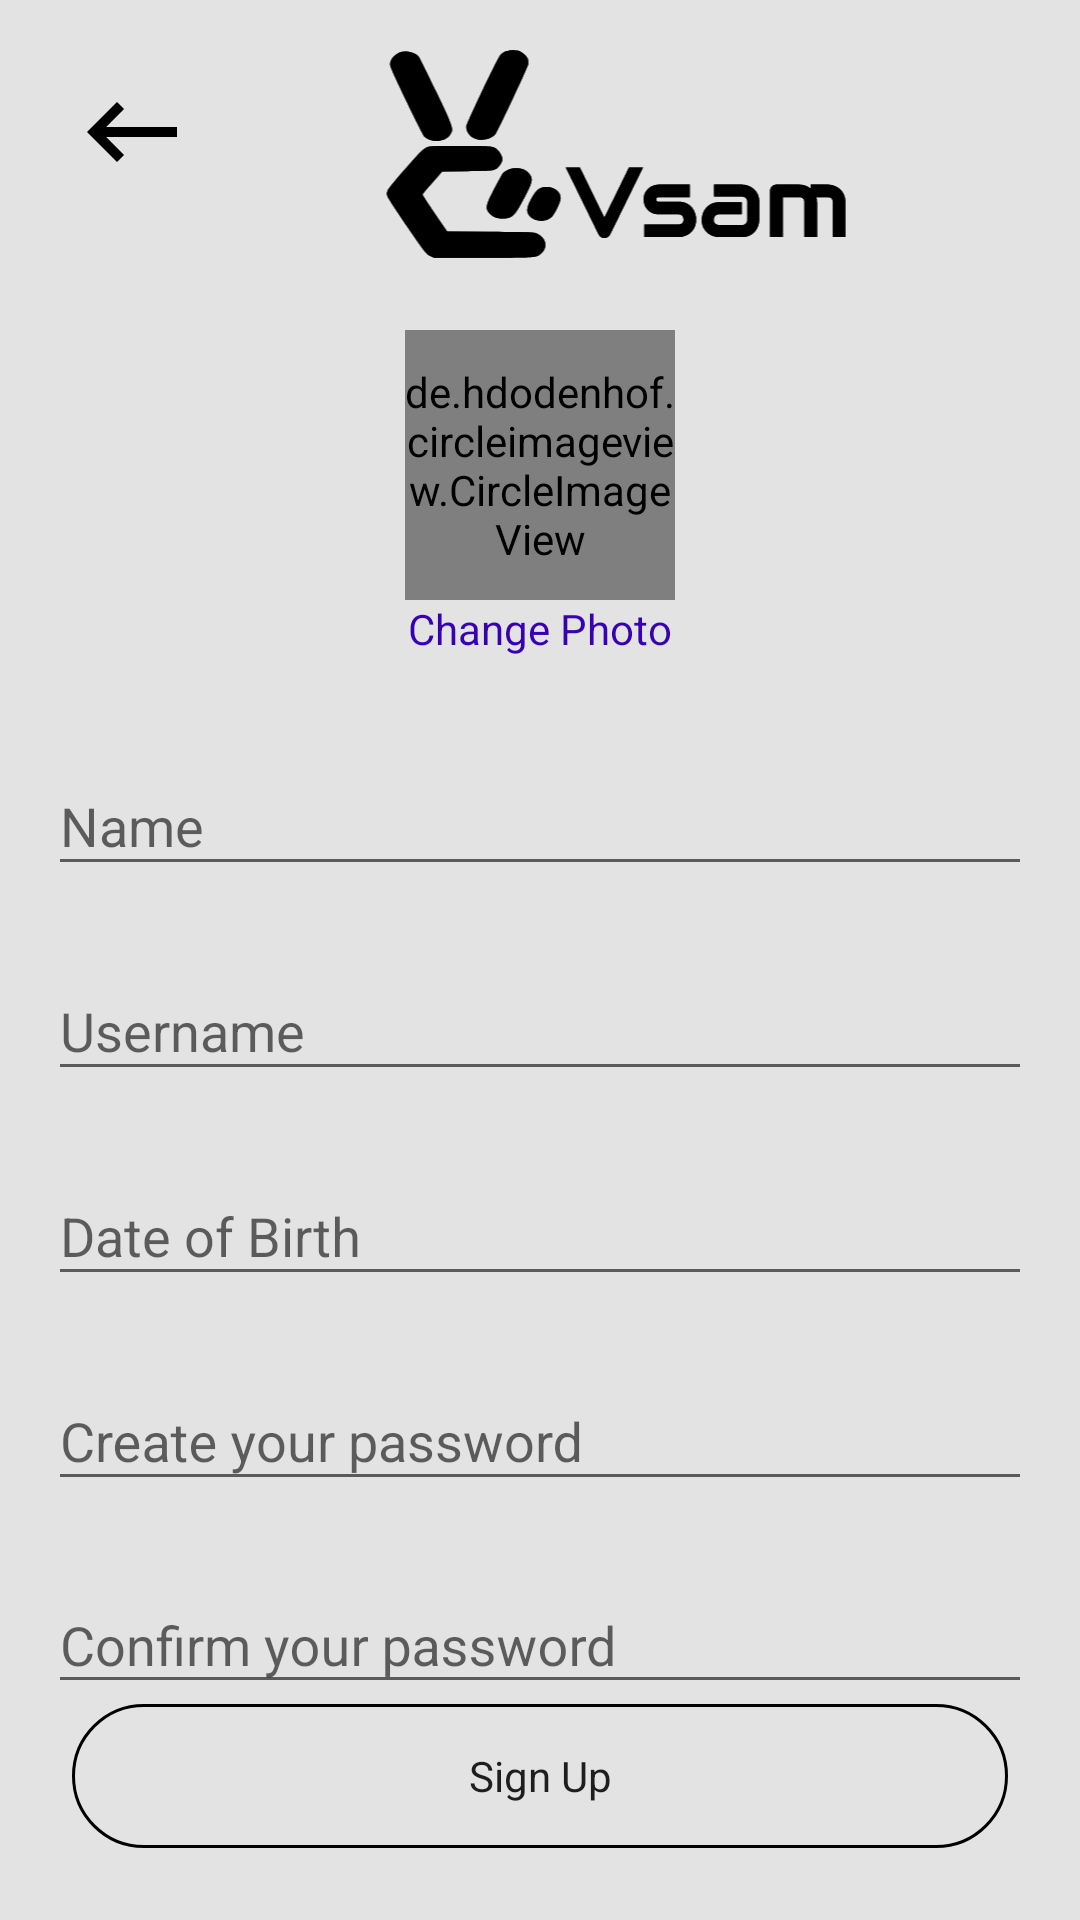

Screen size 1080 × 1920. Icon name, then its box in pixels as (left=x1, top=y1, right=x2, bottom=y2):
back arrow: (left=87, top=102, right=177, bottom=162)
